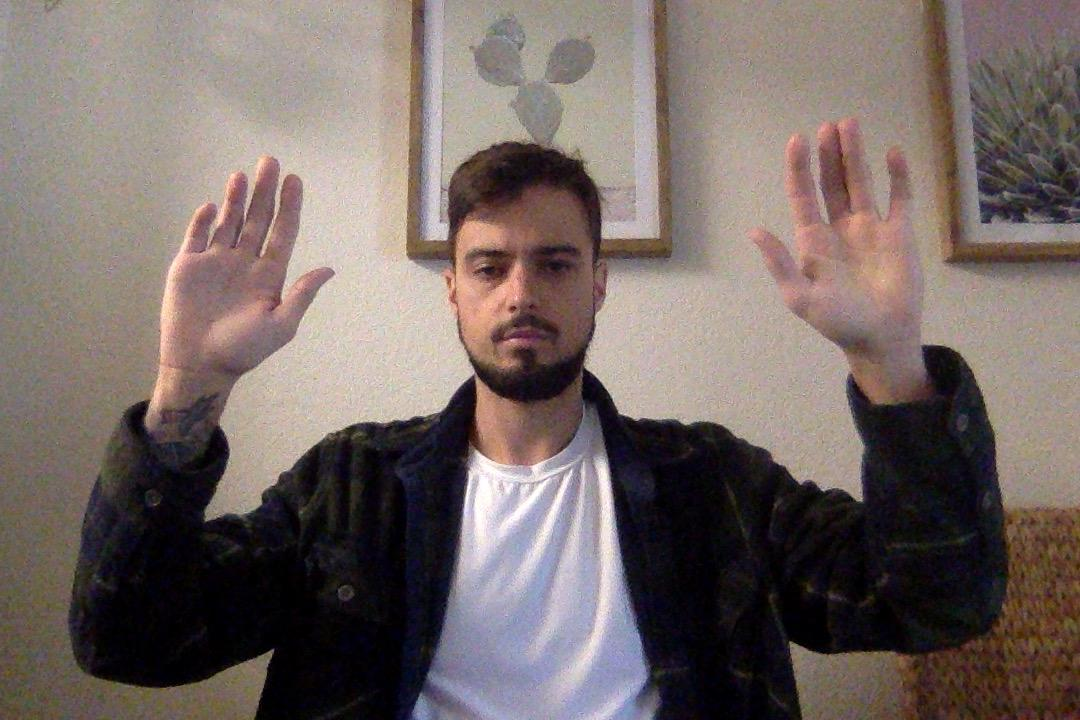Hand-Raised: (731, 105, 953, 399), (150, 132, 338, 421)
